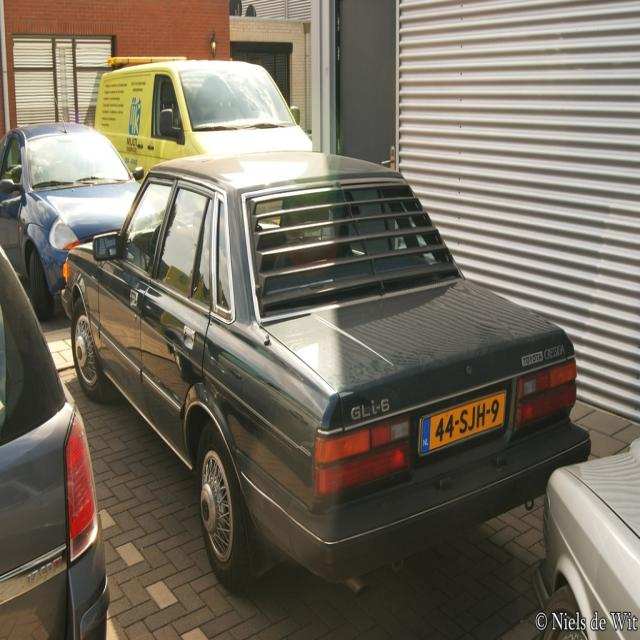car: (60, 149, 589, 591)
